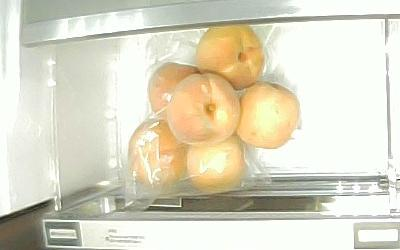peach: (166, 73, 239, 146), (196, 24, 265, 90), (236, 82, 300, 149)
peach_vinyl: (127, 118, 186, 188), (186, 130, 244, 192), (148, 62, 200, 112)
